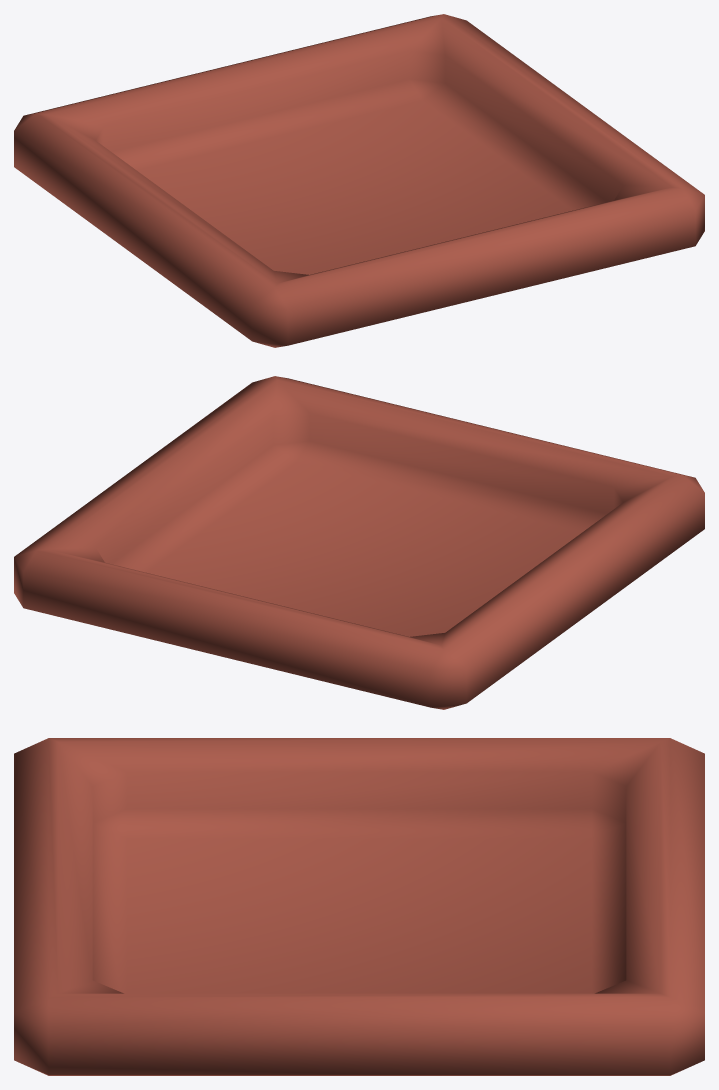
File: Planter.fbx
3 renders of one model, top to bottom at view 1: azimuth 30°, elevation 25°; view 2: azimuth 150°, elevation 25°; view 3: azimuth 270°, elevation 25°, orthographic. The views are drawn at different scales.
Visible parts, largest first — view 1: Planter; view 2: Planter; view 3: Planter.
Part boxes in pixels (x1,y1,x2,y2): Planter: (14, 14, 704, 347); Planter: (14, 376, 704, 709); Planter: (14, 738, 704, 1075).
Size of the model in its own units: 246 by 31.18 by 249.
